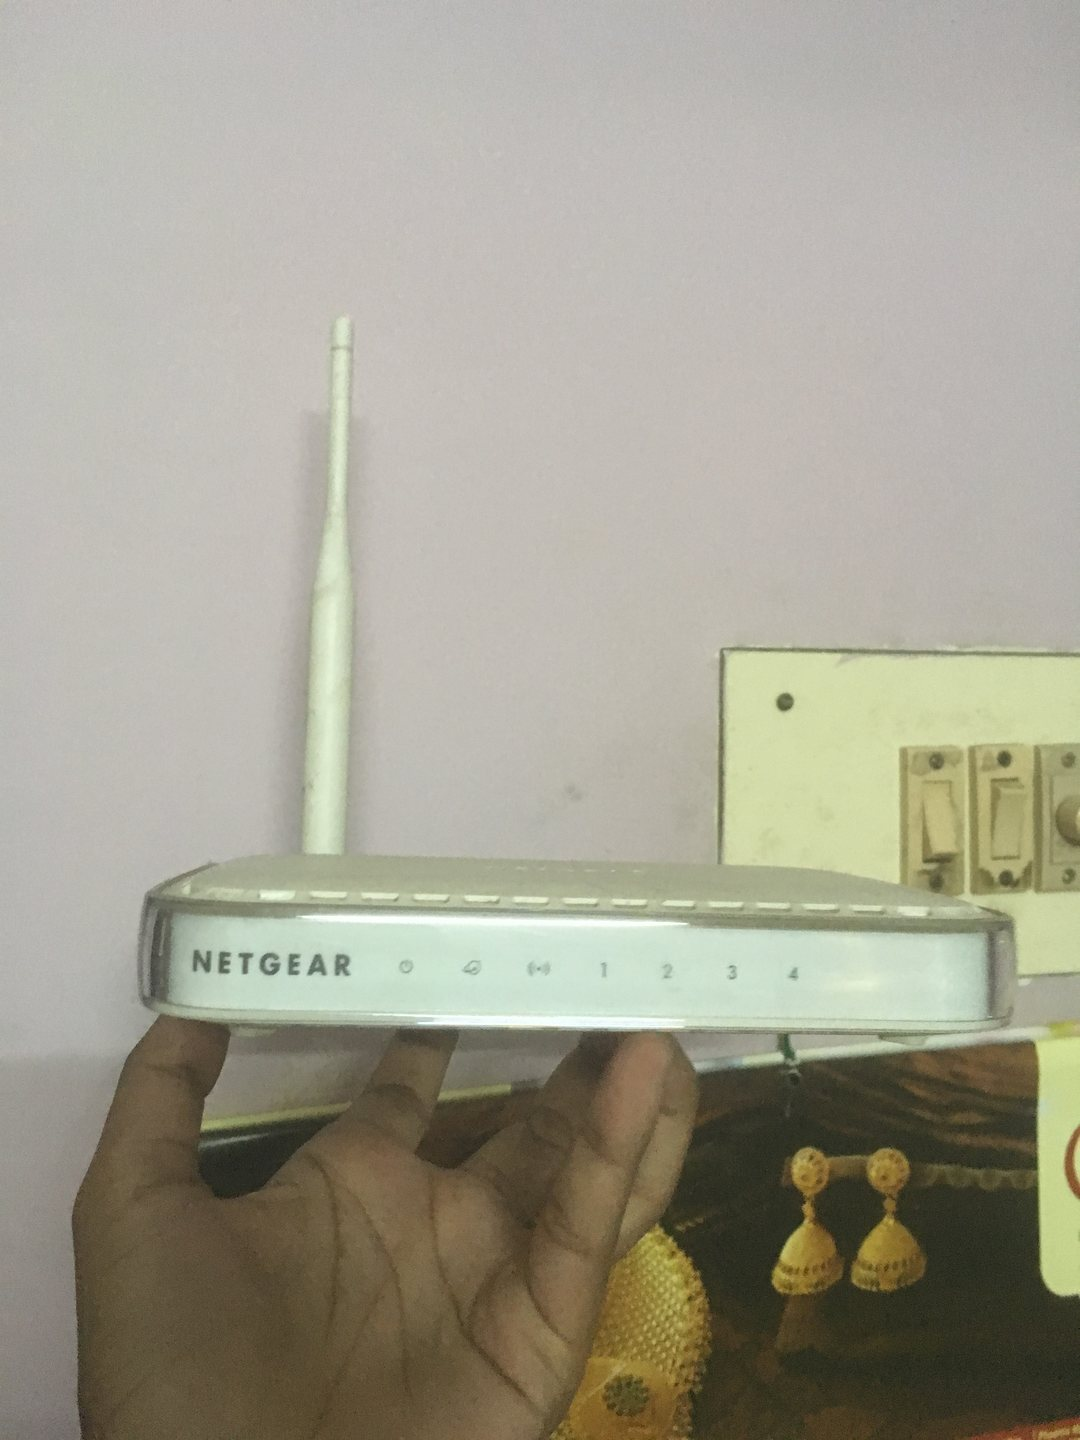NETGEAR: (187, 945, 357, 986)
modem: (134, 878, 1033, 1036)
